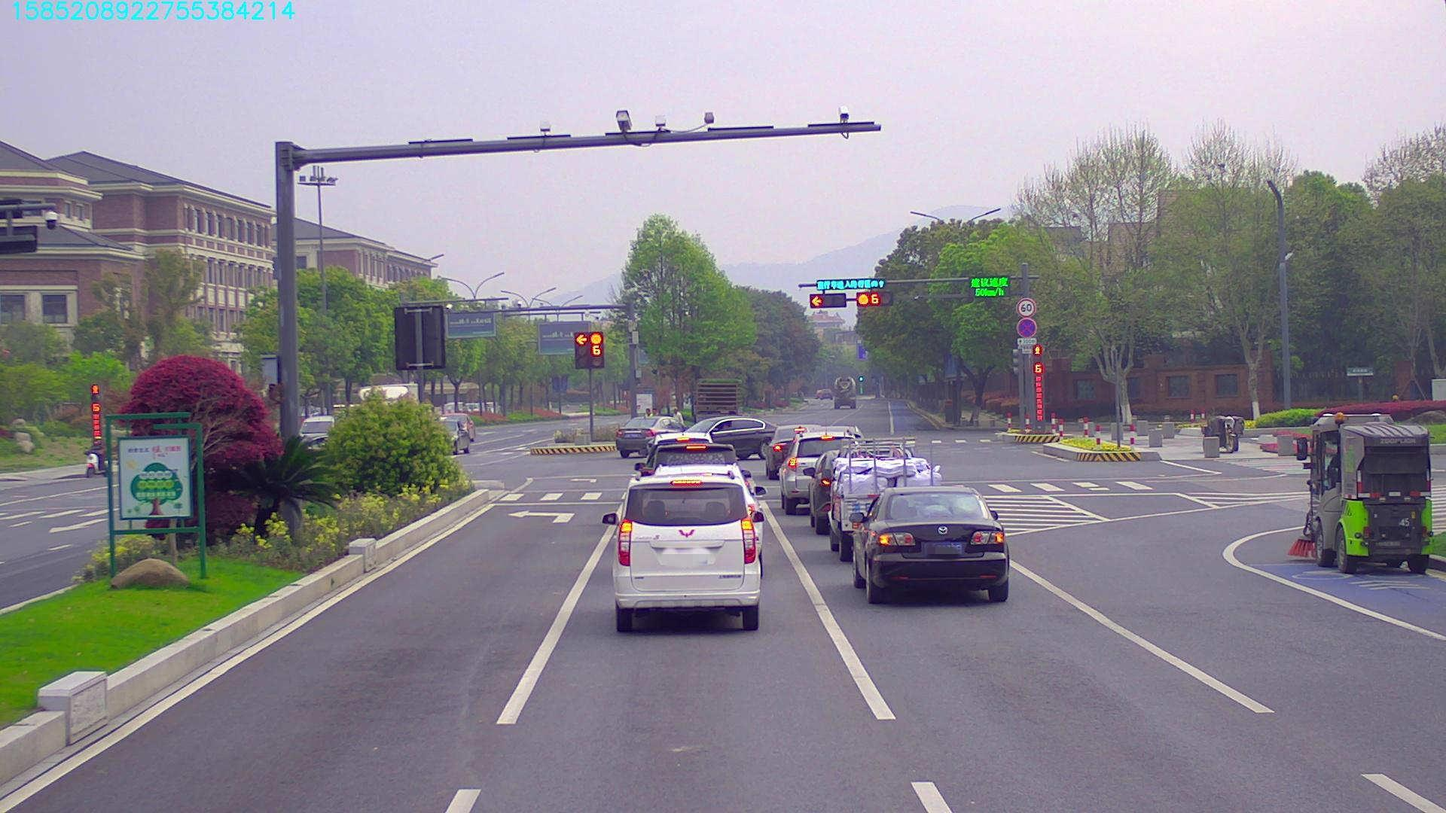red: (853, 293, 890, 306), (808, 294, 842, 308)
wait_on: (816, 279, 891, 290)
